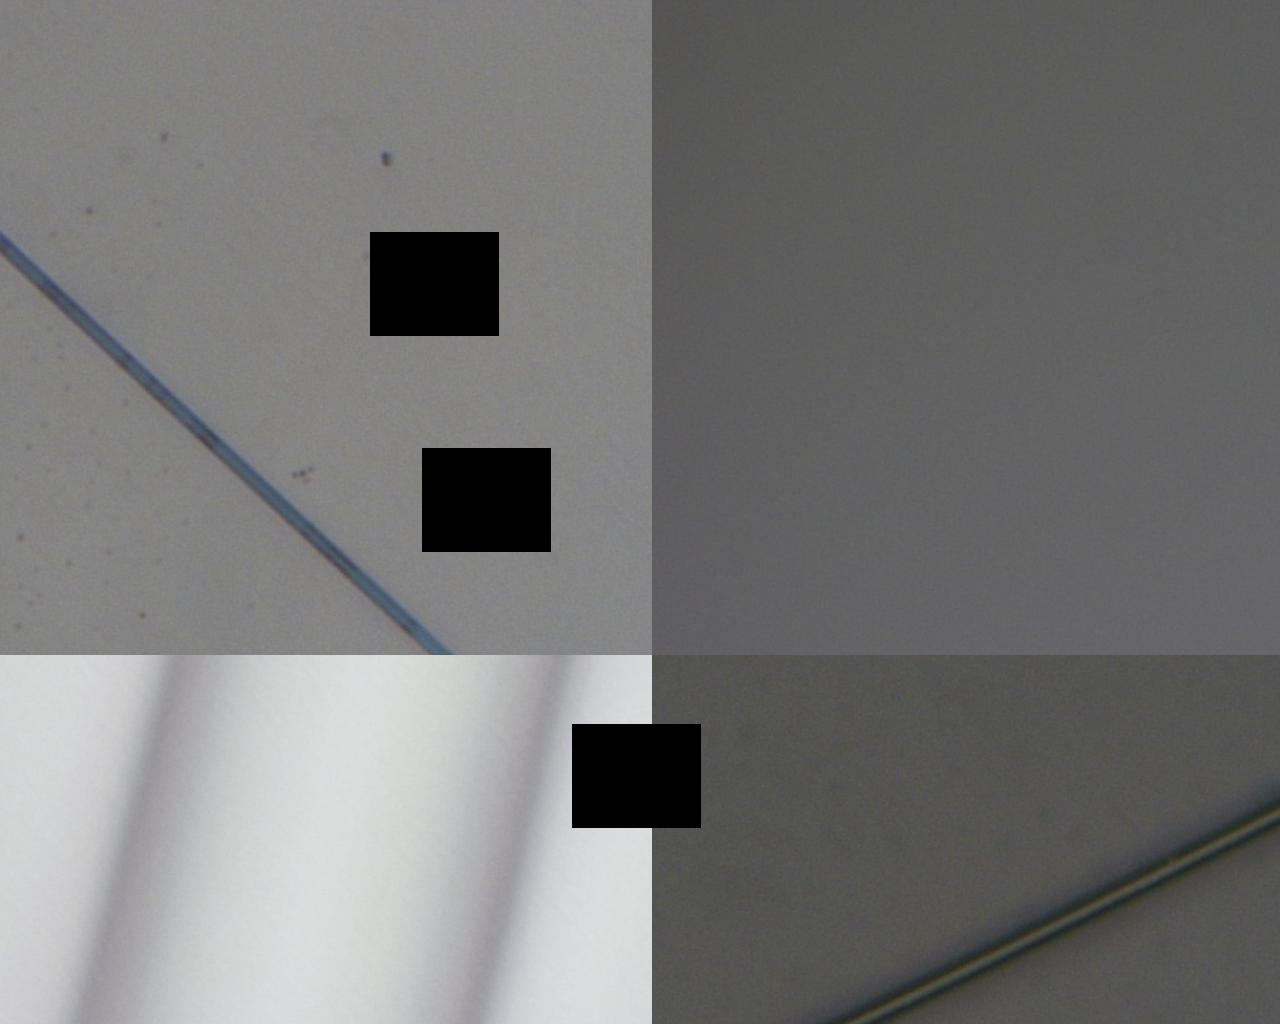fiber: (0, 228, 458, 655), (76, 655, 572, 1024), (814, 798, 1280, 1024)
